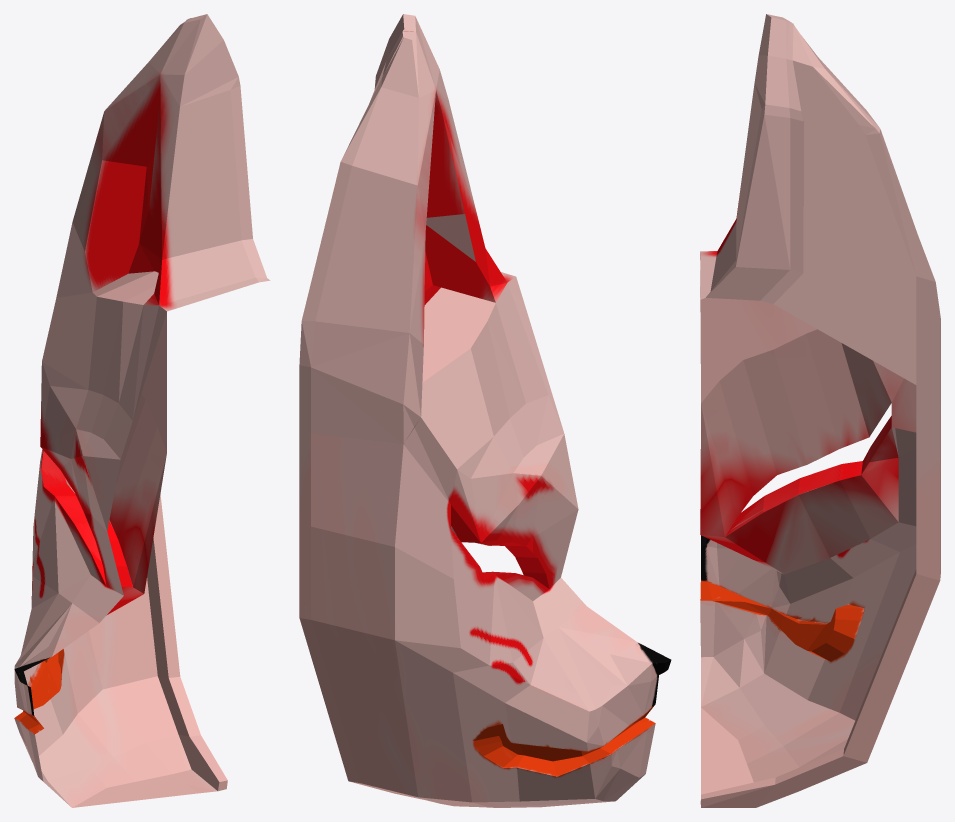
The model's file is kitsunemask.gltf.
The picture shows the model from 3 angles, left to right: view 1: azimuth 30°, elevation 25°; view 2: azimuth 150°, elevation 25°; view 3: azimuth 270°, elevation 25°; orthographic projection. The views are drawn at different scales.
Visible parts, largest first — view 1: Cube; view 2: Cube; view 3: Cube.
Boxes of the visible parts, left/top/right/bottom form: Cube: left=14, top=14, right=270, bottom=807; Cube: left=299, top=14, right=671, bottom=807; Cube: left=700, top=14, right=940, bottom=807.
Size of the model in its own units: 1.49 by 4.23 by 1.16.
1 material, 1 textured.
